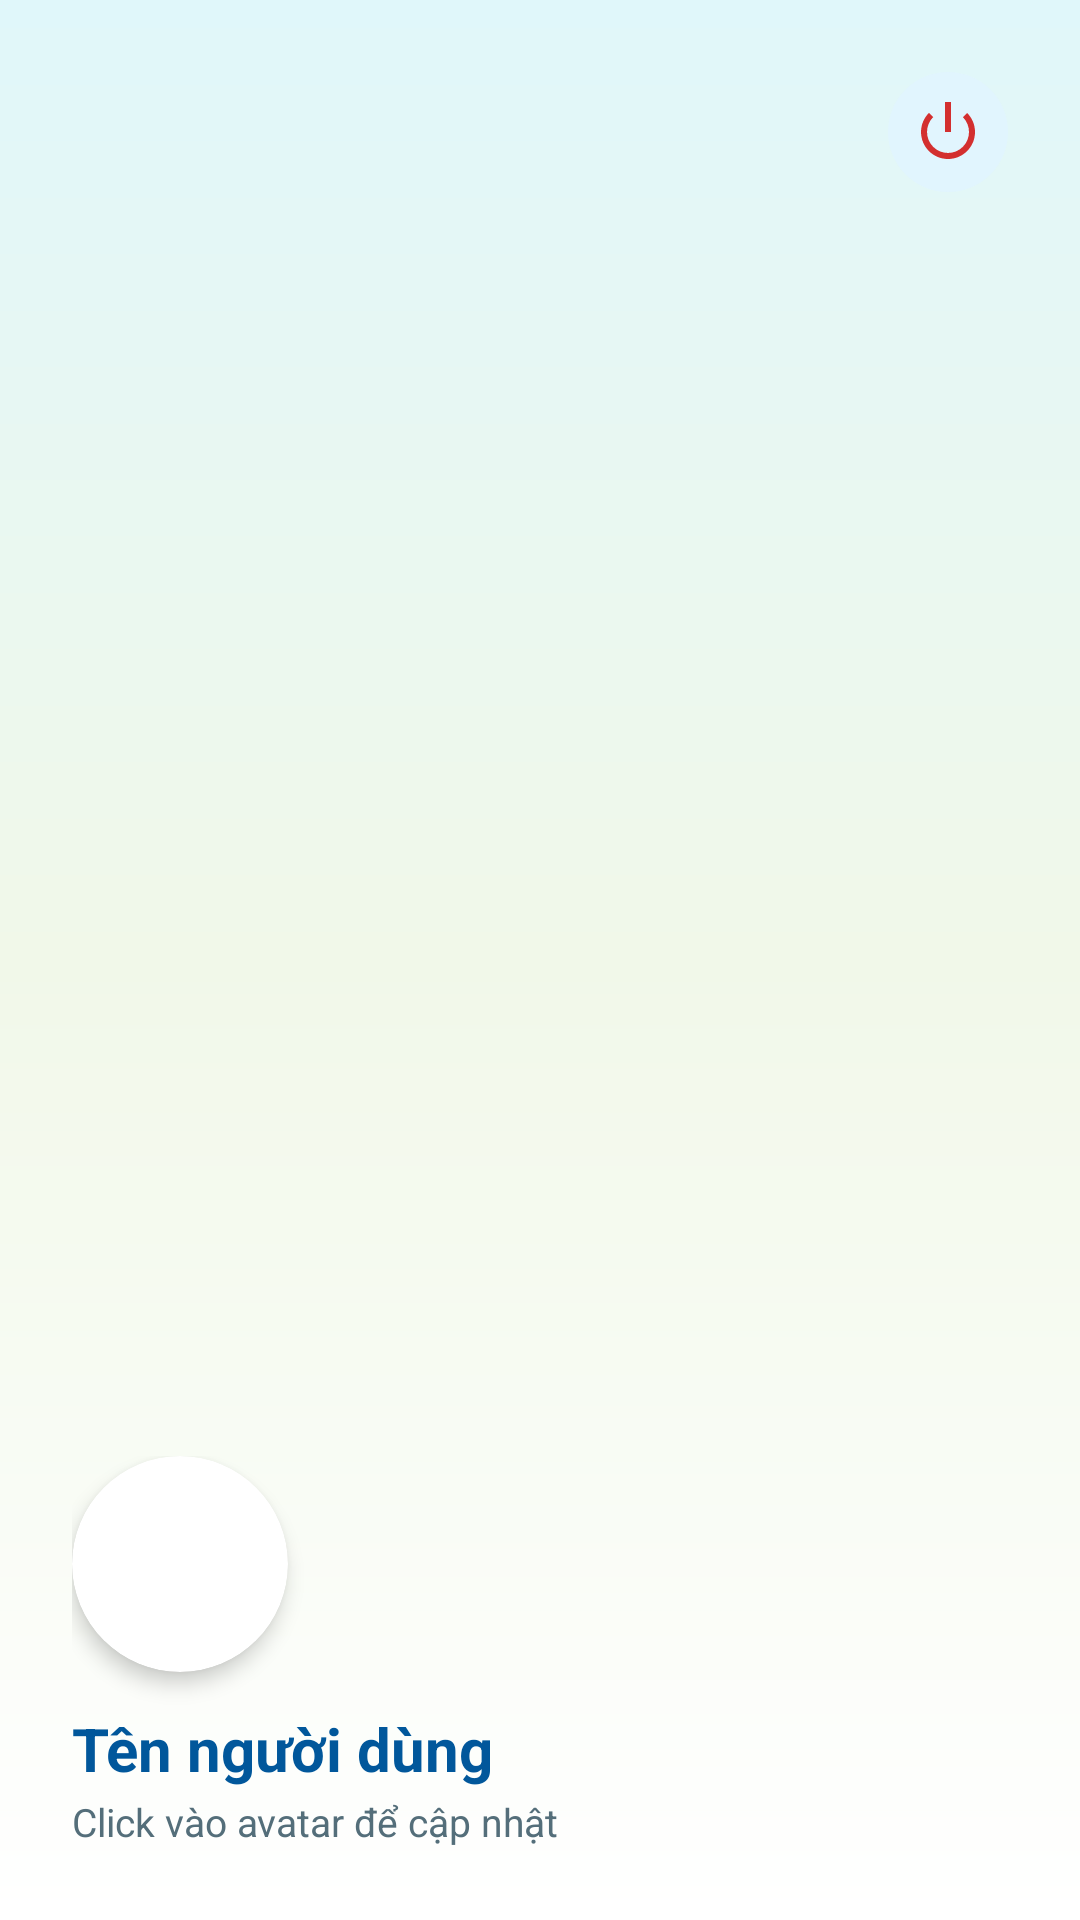

Where to tap for icons on this 1080x1920 app screen, as point (x, y):
lock power off: point (948, 130)
